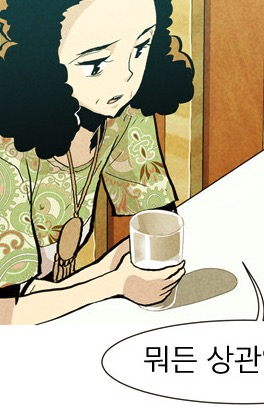cup: (124, 206, 189, 314)
